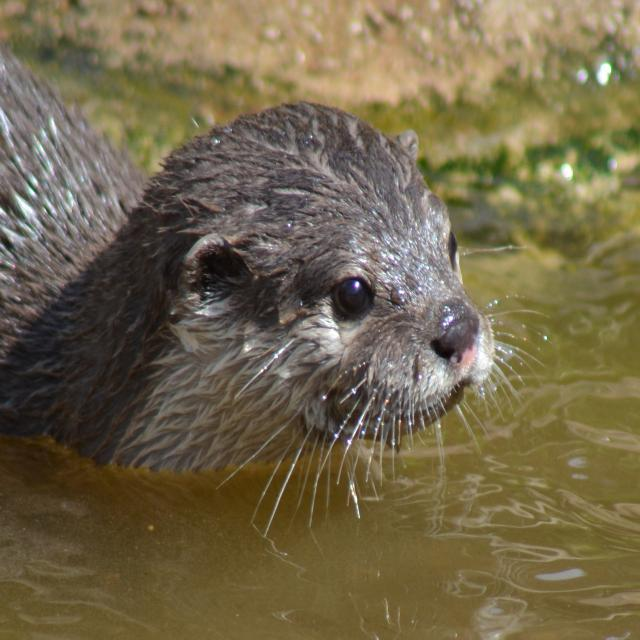otter: (9, 101, 494, 464)
